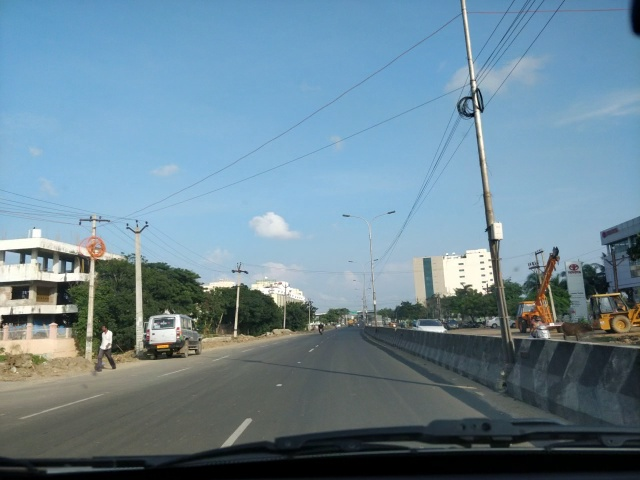car: (146, 309, 208, 357), (408, 318, 449, 344), (485, 319, 518, 330)
motorbike: (315, 319, 327, 334)
person: (96, 325, 116, 374)
tractor: (519, 246, 569, 330), (590, 274, 636, 333)
